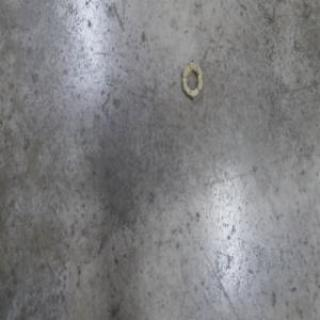Nuttrack_idkeyframe: (181, 56, 203, 100)
